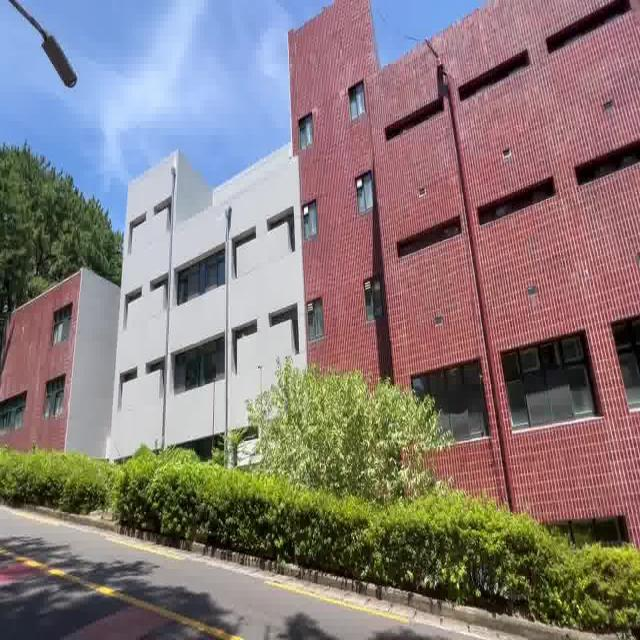building: (22, 30, 640, 466)
